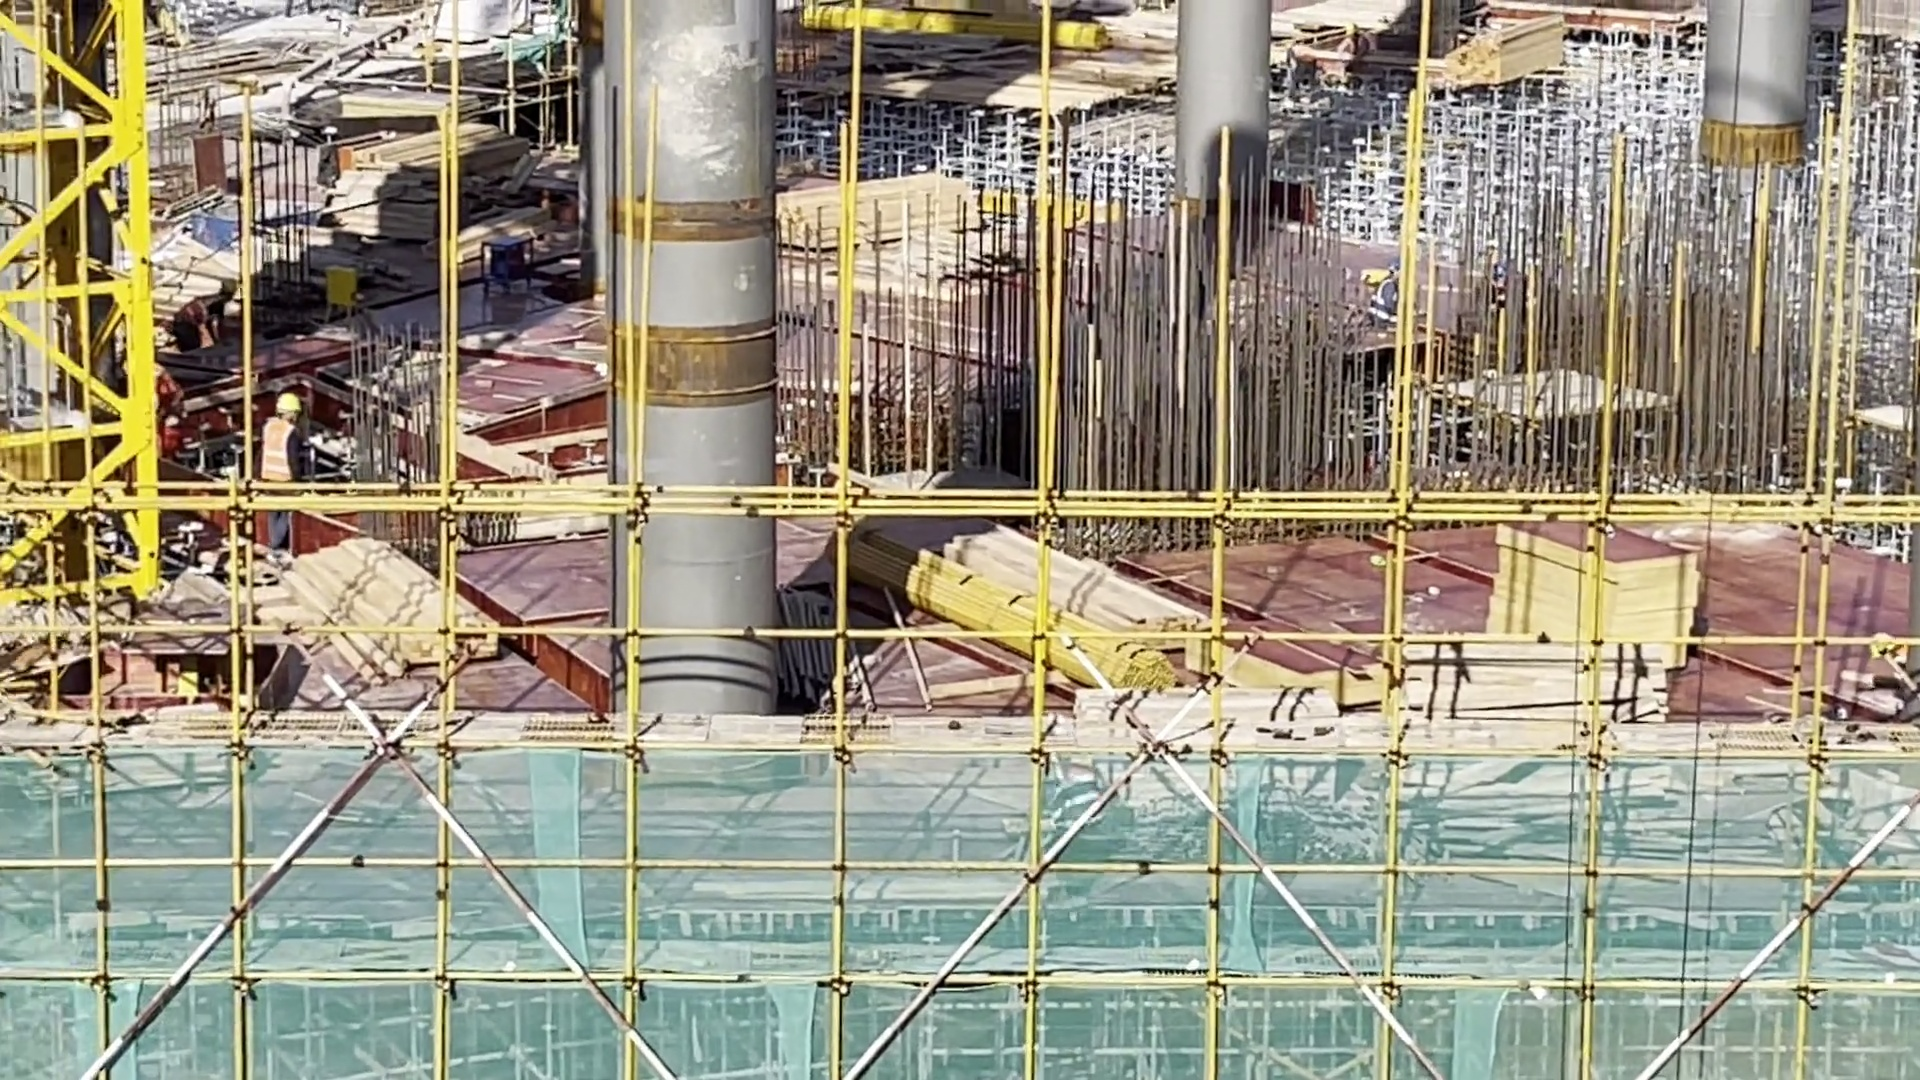board: (1492, 516, 1700, 641), (327, 127, 533, 238)
person: (254, 388, 309, 562)
vest: (263, 415, 300, 480)
wood: (933, 526, 1198, 689), (292, 546, 490, 684), (1408, 631, 1682, 724), (1427, 19, 1581, 88), (777, 184, 981, 238)
